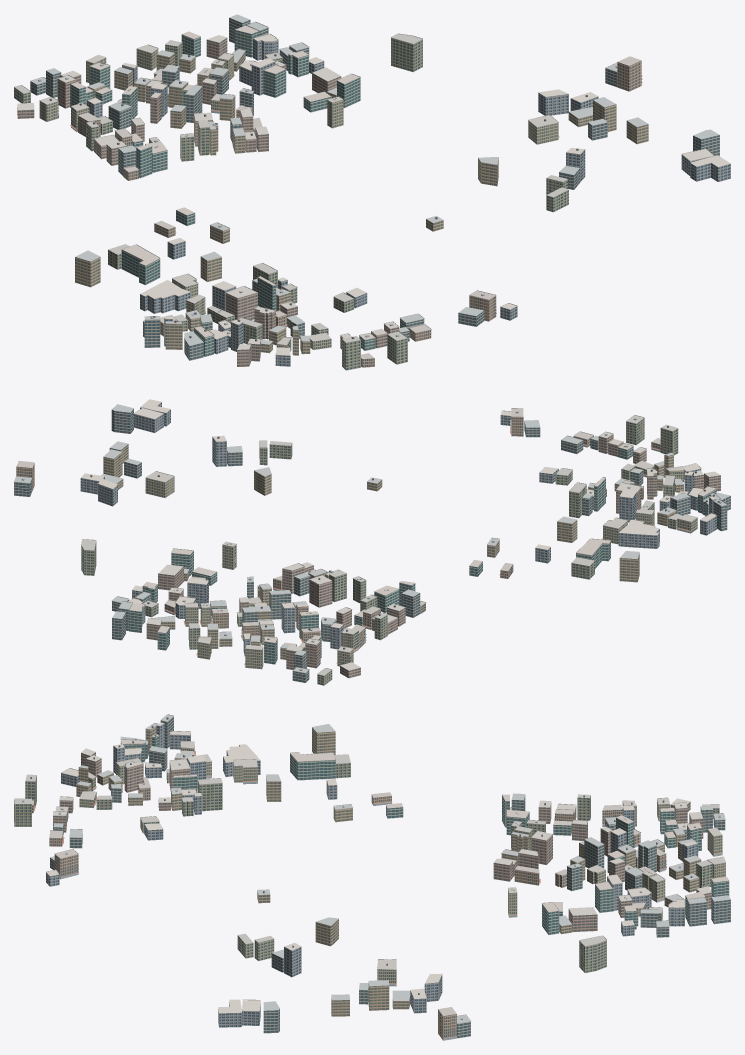
The picture shows the model from 3 angles, top to bottom: view 1: azimuth 30°, elevation 25°; view 2: azimuth 150°, elevation 25°; view 3: azimuth 270°, elevation 25°; orthographic projection. The views are drawn at different scales.
Parts seen in each view (by area): view 1: Station 6 surrounding real OSM building footprints; view 2: Station 6 surrounding real OSM building footprints; view 3: Station 6 surrounding real OSM building footprints.
Boxes of the visible parts, left/top/right/bottom form: Station 6 surrounding real OSM building footprints: left=14, top=14, right=730, bottom=370; Station 6 surrounding real OSM building footprints: left=14, top=399, right=730, bottom=685; Station 6 surrounding real OSM building footprints: left=14, top=714, right=730, bottom=1040.
Size of the model in its own units: 692 by 30.3 by 699.
25 materials, 8 textured.
